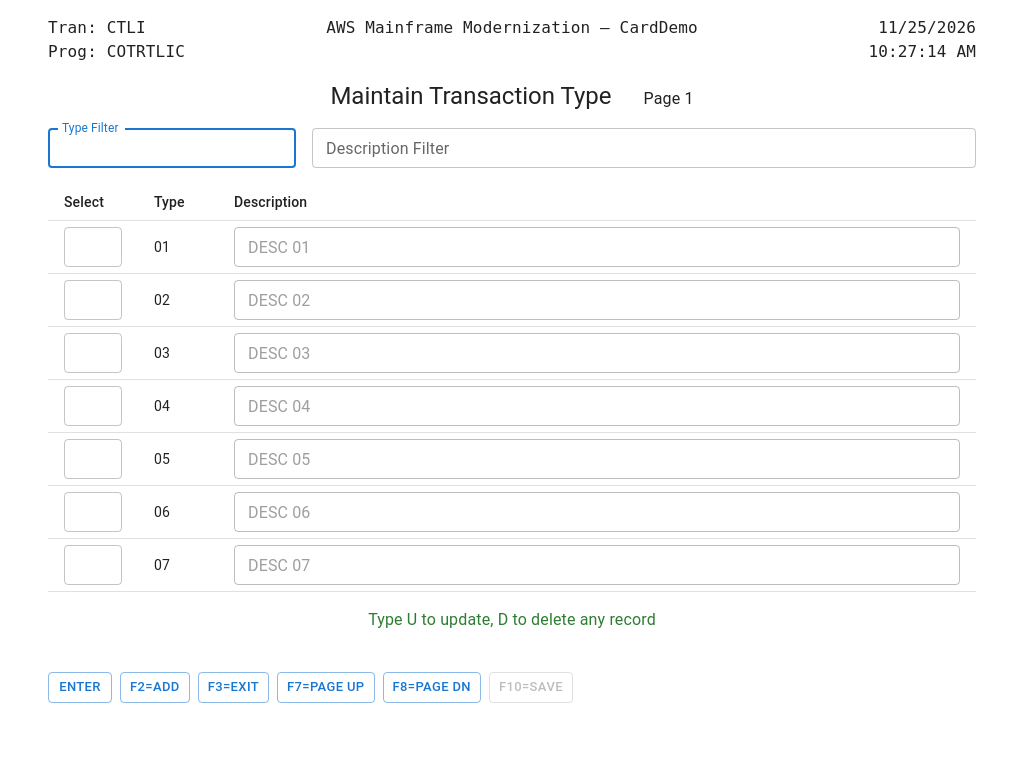
Test: TransactionTypeListPage (CTLI) › F7 on first page shows no previous pages
Expected: the row with test id "row-01" is shown, [48,220,976,274]
Click the button "F7=Page Up".
click(326, 687)  # box [277,672,375,703]
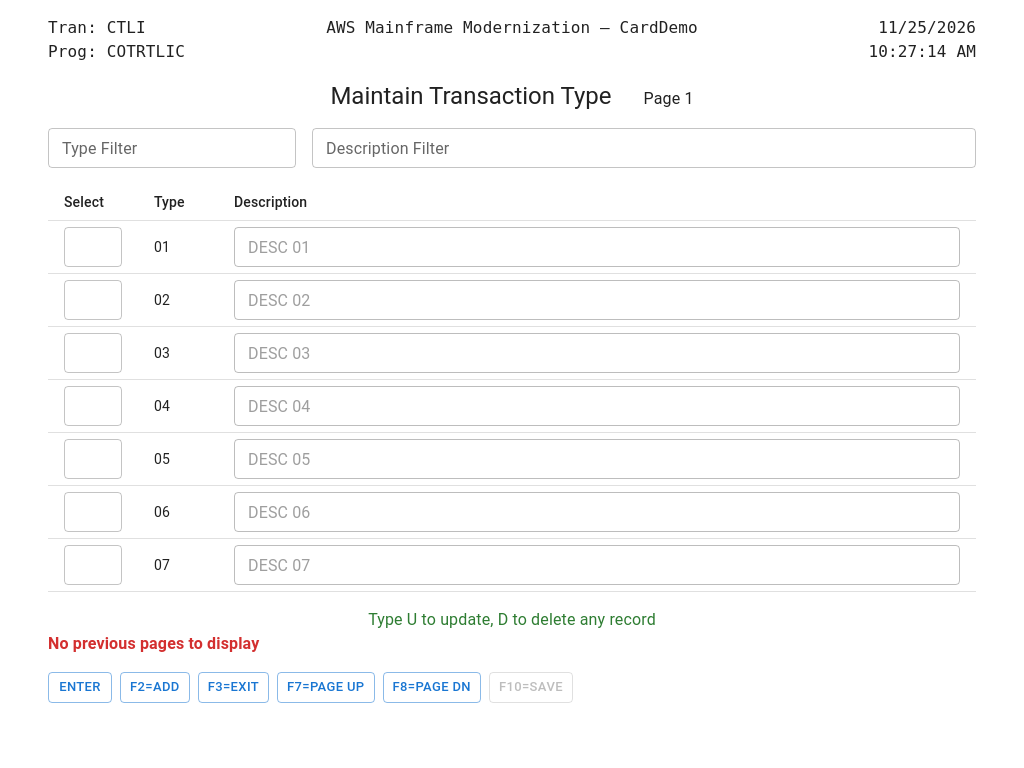
Result: the message reads "No previous pages to display" at [48,634,259,653]
